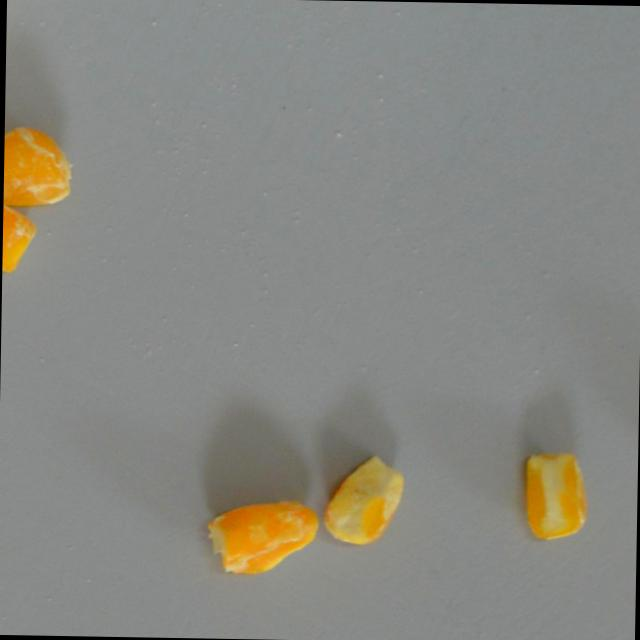dañado: (200, 496, 321, 578), (320, 449, 414, 548), (516, 447, 594, 545), (2, 122, 79, 210), (1, 185, 39, 274)
